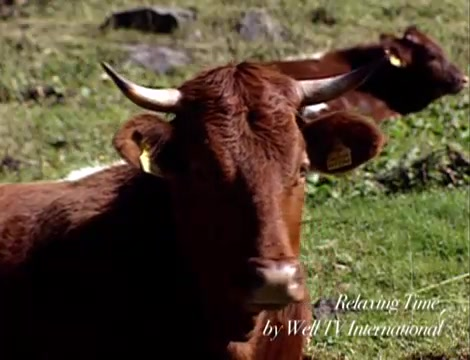cow: (1, 61, 366, 360)
